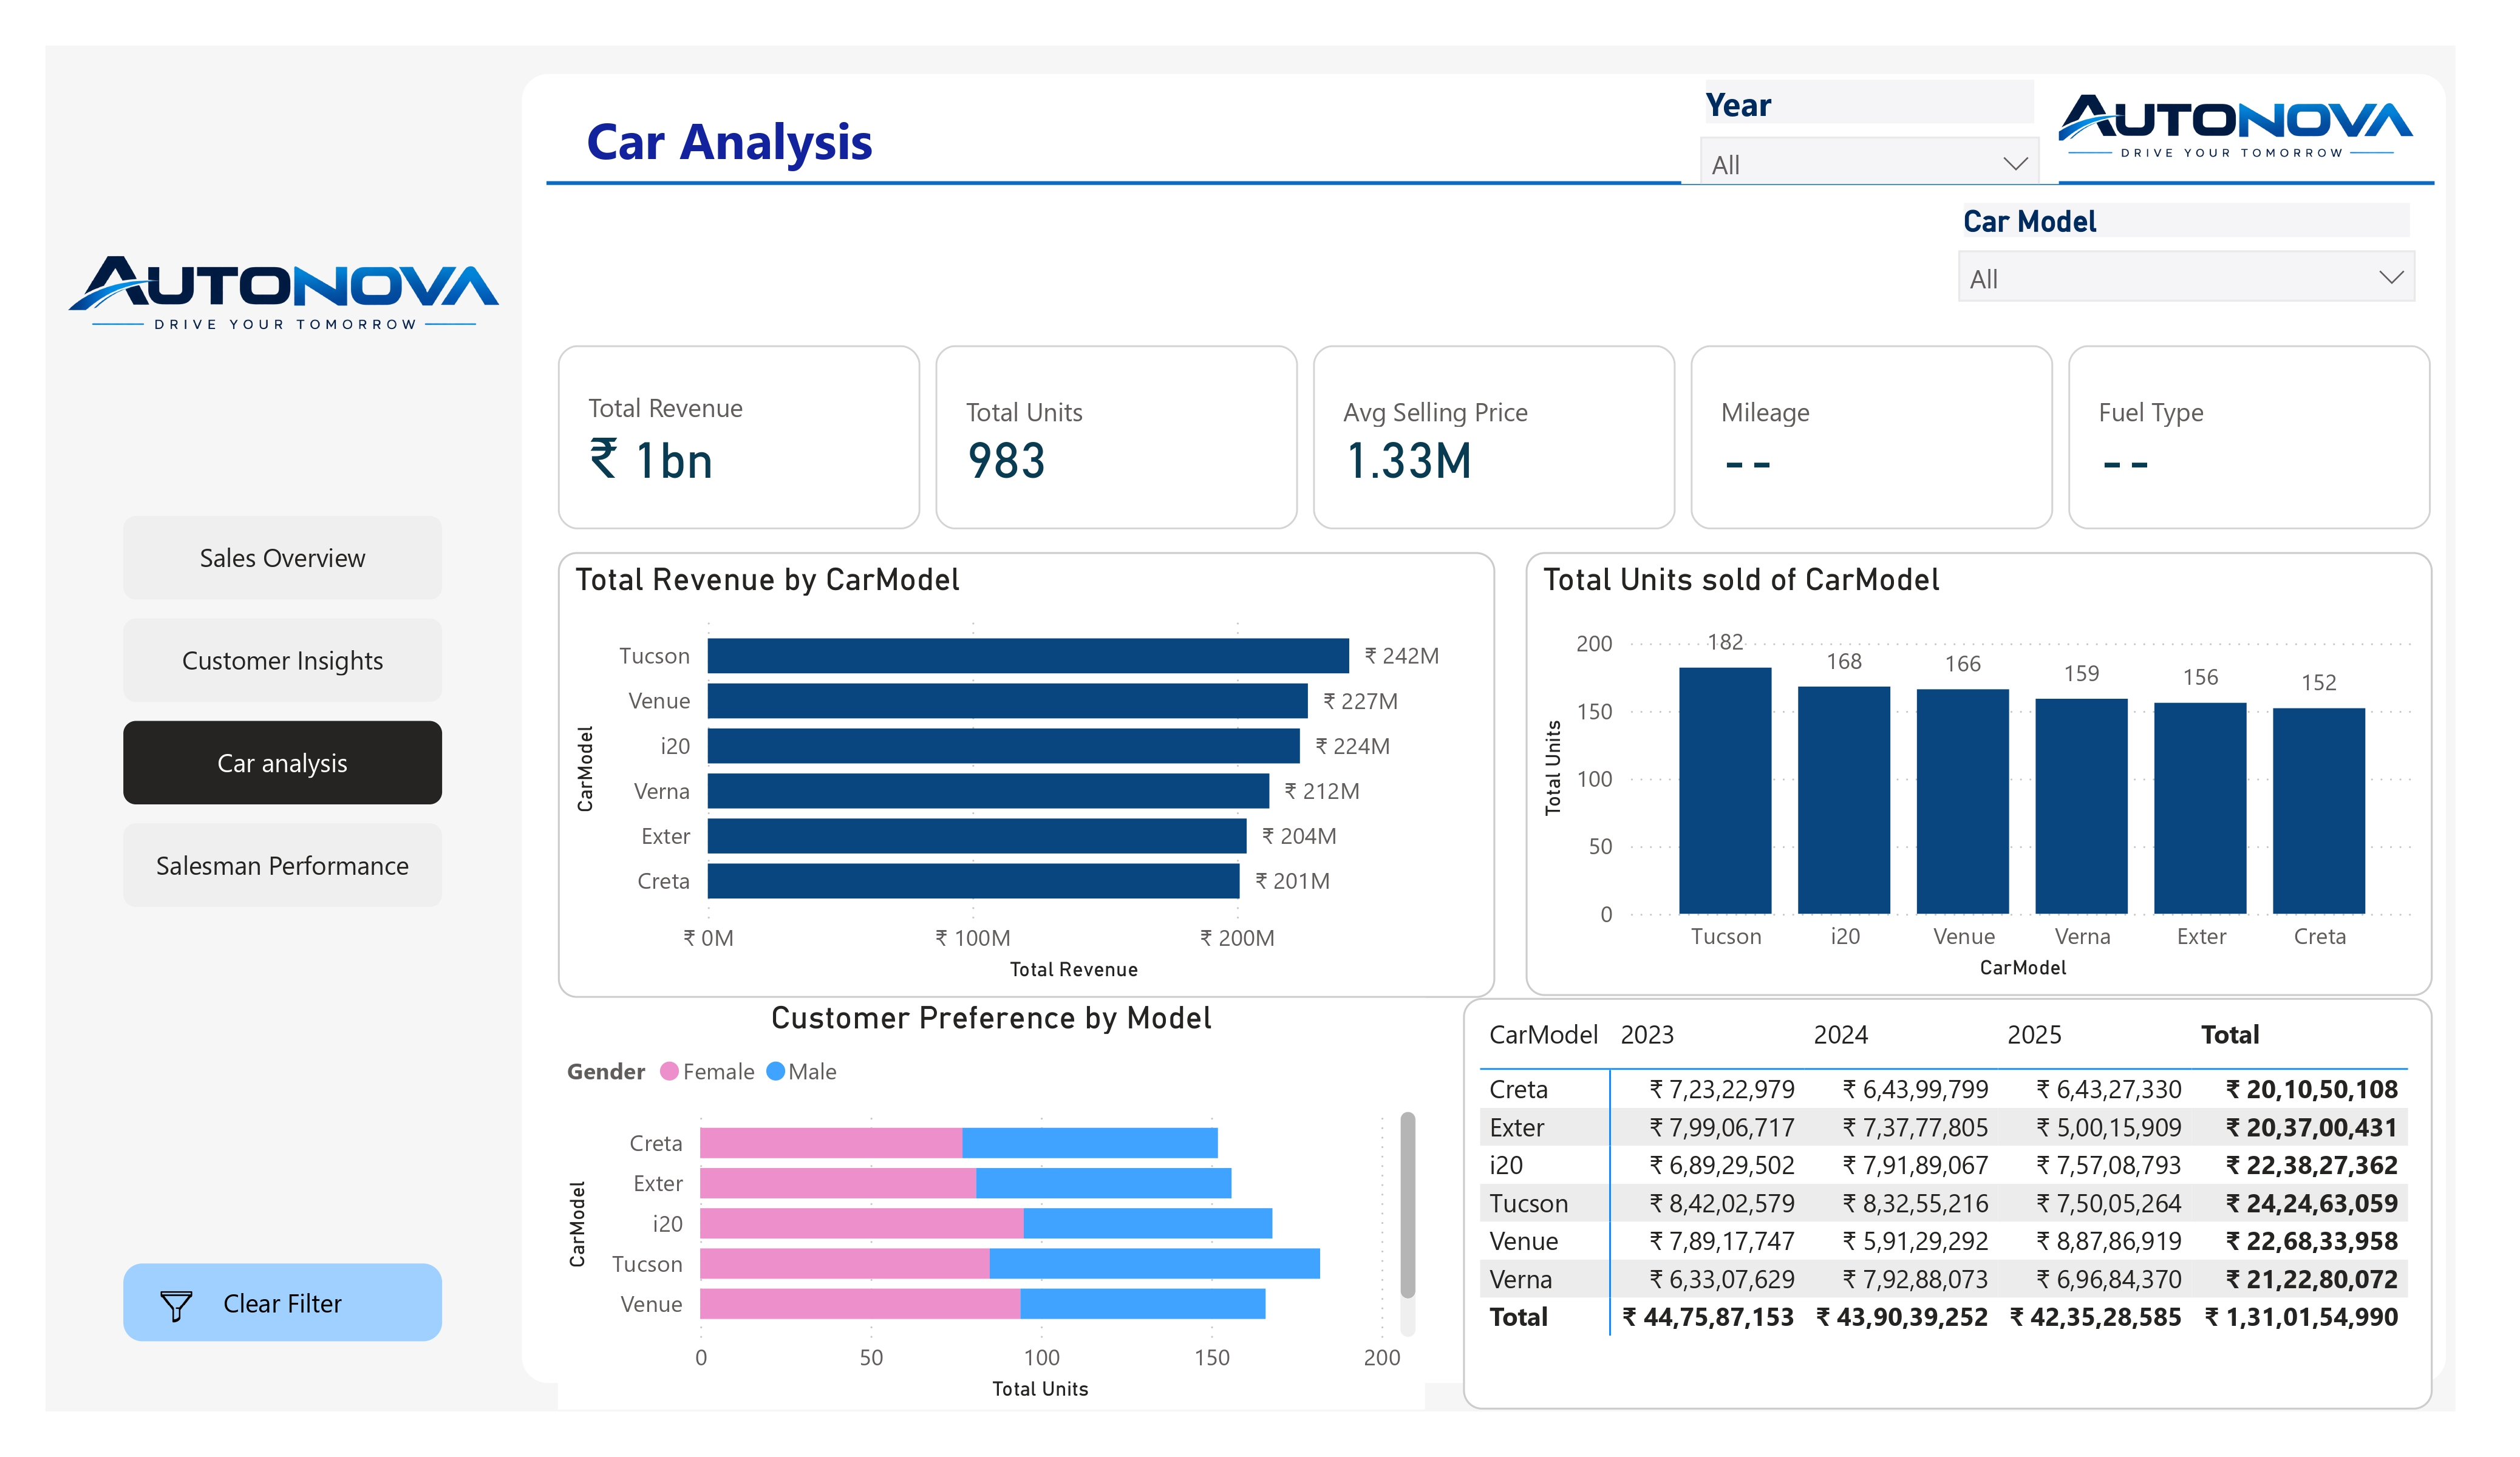

The page's visual inventory and layout, read from the dashboard file:
{"tool":"powerbi","page":{"name":"Car analysis","canvas":[1280,720],"ordinal":2},"visuals":[{"type":"shape","box":[0,0,1270.1,720.2],"z":0},{"type":"shape","box":[236.2,0,1043.8,720.2],"z":1000},{"type":"image","box":[1045.3,0,212.8,84.6],"z":2000},{"type":"shape","box":[264.4,0,994.7,145.5],"z":3000},{"type":"image","box":[0,0,251.3,260.8],"z":4000},{"type":"textbox","box":[280,26,332,58],"z":5000},{"type":"pageNavigator","box":[40.7,248.1,168.5,205.5],"z":6000},{"type":"actionButton","box":[40.7,642.5,168.5,40.7],"z":7000},{"type":"image","box":[40.7,653.6,55.5,20.4],"z":8000},{"type":"cardVisual","fields":{"Data":["_Measures.Total Revenue","_Measures.Total Units","_Measures.Avg Selling Price","_Measures.Mileage","_Measures.Fuel Type"]},"box":[269.7,145.8,988.4,121],"z":9000},{"type":"slicer","title":"Car Model","fields":{"Values":["Car.CarModel"]},"box":[1003.3,83.5,250.4,62.2],"z":10000},{"type":"clusteredBarChart","fields":{"Category":["Car.CarModel"],"Y":["_Measures.Total Revenue"]},"box":[269.7,266.8,494.2,234.7],"z":11000},{"type":"clusteredColumnChart","title":"Total Units sold of CarModel","fields":{"Category":["Car.CarModel"],"Y":["_Measures.Total Units"]},"box":[780.1,267.1,478.1,233.7],"z":12000},{"type":"barChart","title":"Customer Preference by Model","fields":{"Category":["Car.CarModel"],"Series":["Customers.Gender"],"Y":["_Measures.Total Units"]},"box":[270.2,502.4,456.9,217],"z":13000},{"type":"pivotTable","fields":{"Columns":["Date.Year"],"Rows":["Car.CarModel"],"Values":["_Measures.Total Revenue"]},"box":[746.8,502.4,511.5,217],"z":14000},{"type":"slicer","fields":{"Values":["Date.Year","Sales.DeliveryDate.Variation.Date Hierarchy.Month"]},"box":[861.8,18.2,199.1,54.5],"z":15000}]}

Visuals, with their boxes on the page's 1280x720 design canvas (x1, y1, x2, y2). These are canvas units, not pixel positions in the 2520x1457 screenshot, which may show the page scaled, cropped or inside an application window:
shape: pyautogui.locateOnScreen(0, 0, 1270, 720)
shape: pyautogui.locateOnScreen(236, 0, 1280, 720)
image: pyautogui.locateOnScreen(1045, 0, 1258, 85)
shape: pyautogui.locateOnScreen(264, 0, 1259, 146)
image: pyautogui.locateOnScreen(0, 0, 251, 261)
textbox: pyautogui.locateOnScreen(280, 26, 612, 84)
pageNavigator: pyautogui.locateOnScreen(41, 248, 209, 454)
actionButton: pyautogui.locateOnScreen(41, 642, 209, 683)
image: pyautogui.locateOnScreen(41, 654, 96, 674)
cardVisual - _Measures.Total Revenue x _Measures.Total Units: pyautogui.locateOnScreen(270, 146, 1258, 267)
"Car Model" slicer: pyautogui.locateOnScreen(1003, 84, 1254, 146)
clusteredBarChart - Car.CarModel x _Measures.Total Revenue: pyautogui.locateOnScreen(270, 267, 764, 502)
"Total Units sold of CarModel" clusteredColumnChart: pyautogui.locateOnScreen(780, 267, 1258, 501)
"Customer Preference by Model" barChart: pyautogui.locateOnScreen(270, 502, 727, 719)
pivotTable - Date.Year x Car.CarModel: pyautogui.locateOnScreen(747, 502, 1258, 719)
slicer - Date.Year x Sales.DeliveryDate.Variation.Date Hierarchy.Month: pyautogui.locateOnScreen(862, 18, 1061, 73)
